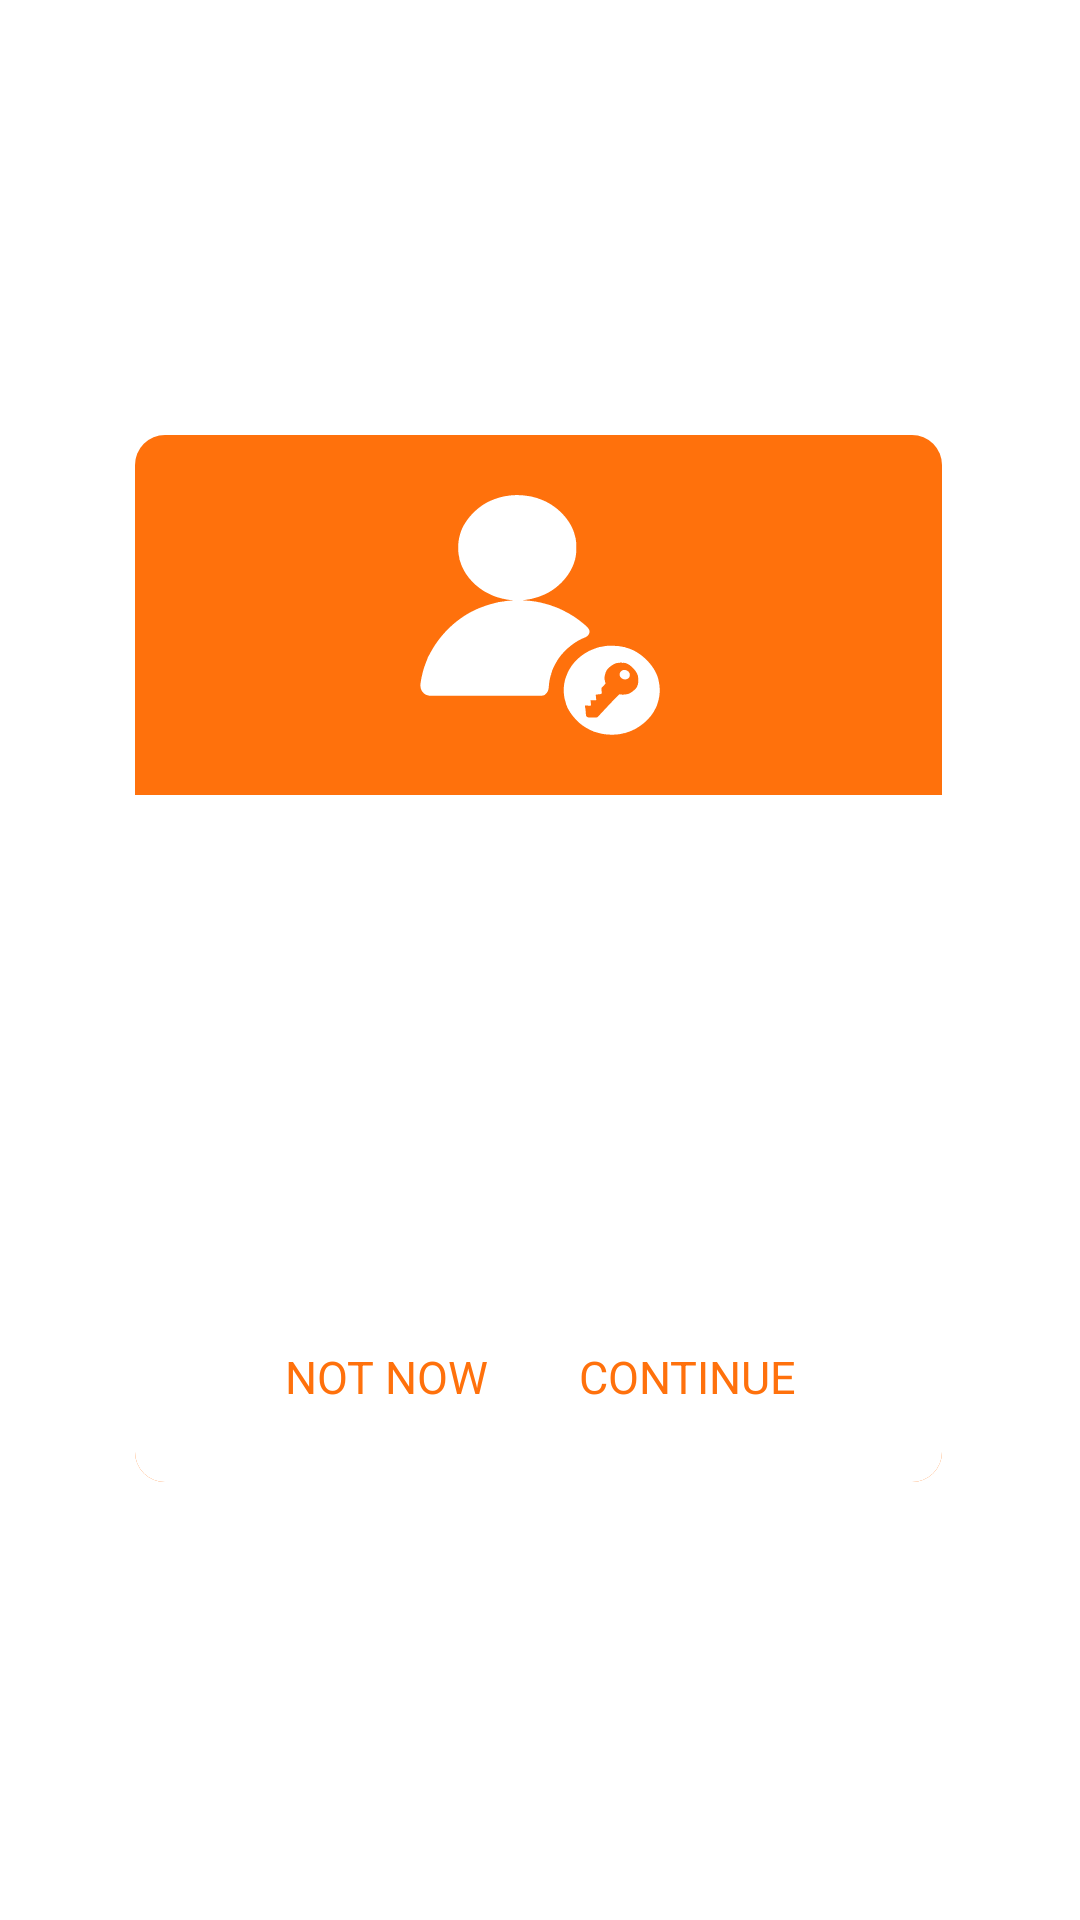

Icon click points for this 1080px x 1920px phone screenshot, format point (x, y):
permission: point (540, 615)
